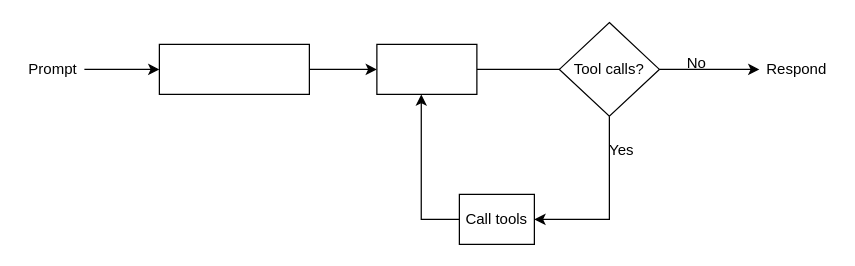
Image size: 855x266. Some labels were removed from this diagram. Each missing label, with the centre of its shape:
"Call LLM" goes at pixel 426 68.
"Discover tools" goes at pixel 233 68.
